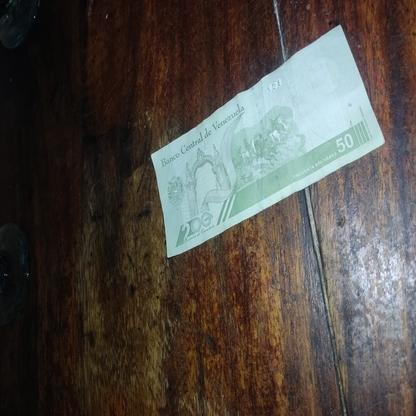fifty-back-vef: (150, 23, 384, 258)
